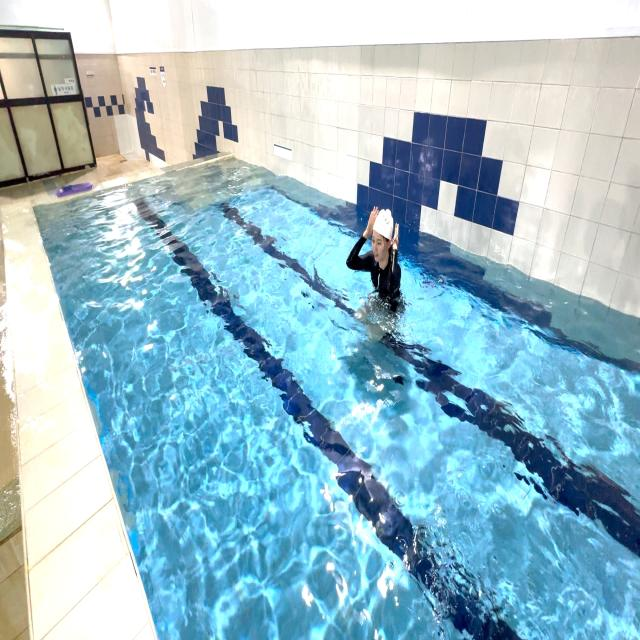Swimming: (346, 201, 405, 339)
